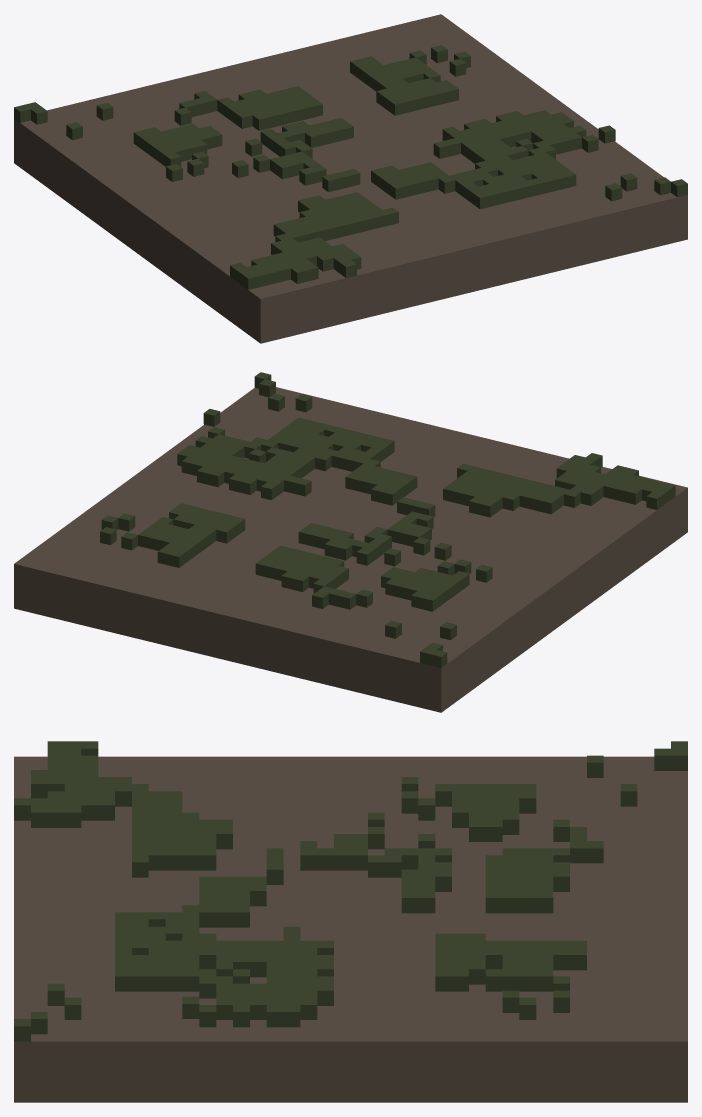
The model's file is meadow.glb.
The picture shows the model from 3 angles, top to bottom: view 1: azimuth 30°, elevation 25°; view 2: azimuth 150°, elevation 25°; view 3: azimuth 270°, elevation 25°; orthographic projection. The views are drawn at different scales.
Visible parts, largest first — view 1: Lot::DeadGrass; view 2: Lot::DeadGrass; view 3: Lot::DeadGrass.
Part boxes in pixels (x1,y1,x2,y2): Lot::DeadGrass: [14, 14, 687, 343]; Lot::DeadGrass: [14, 372, 687, 712]; Lot::DeadGrass: [14, 741, 687, 1102].
Bounding box in the file's own units: 1 × 0.15 × 1.
